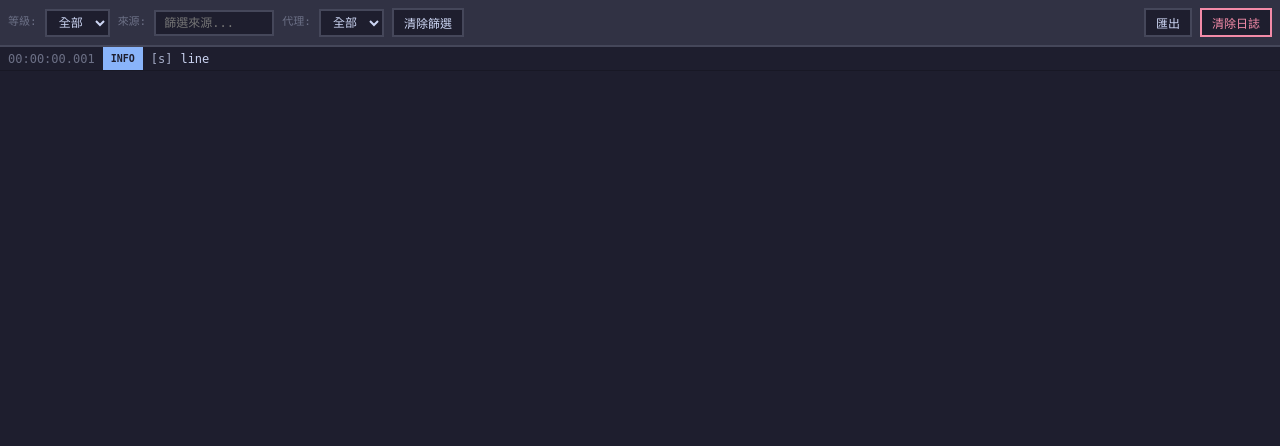
Scenario: LogViewer › 清除篩選按鈕重置所有篩選
In the field with placeholder "篩選來源...": (214, 22) 154,10 -> 274,36, type "xxx"
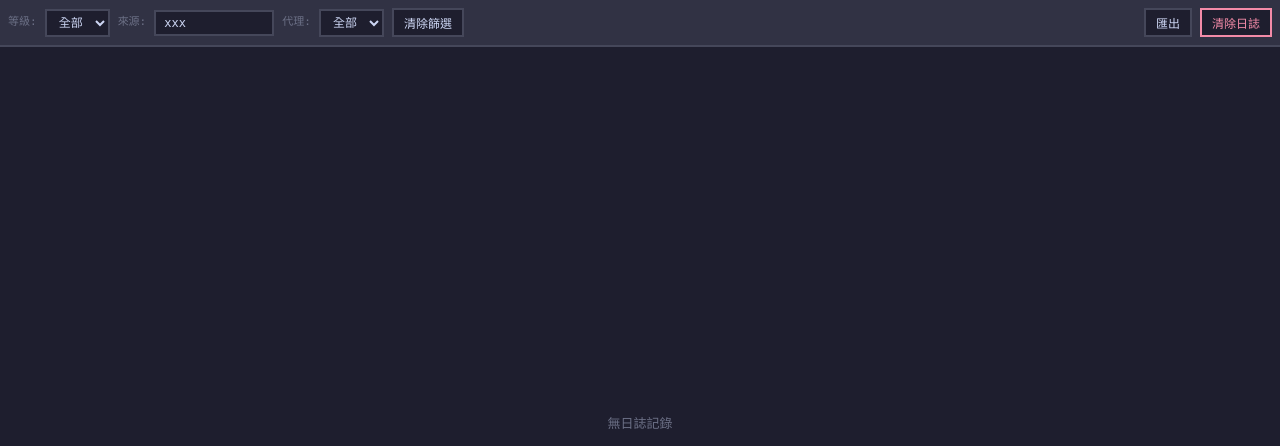
Click the button "清除篩選": click(428, 22) 392,8 -> 464,37
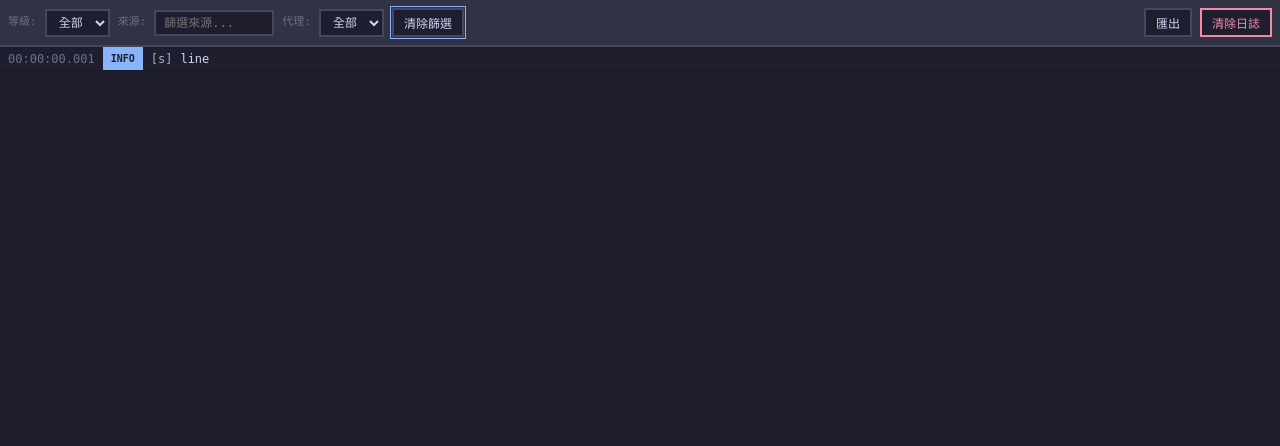
Now the field with placeholder "篩選來源..." is empty, box 154,10 -> 274,36
